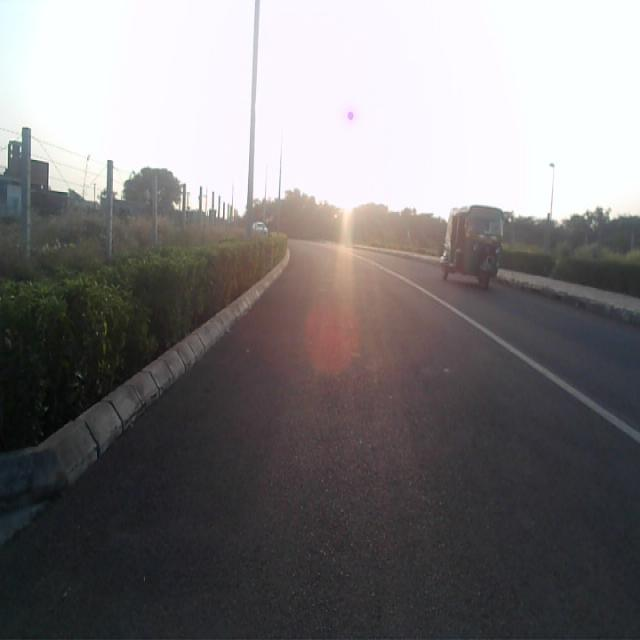lane: (0, 248, 640, 640)
